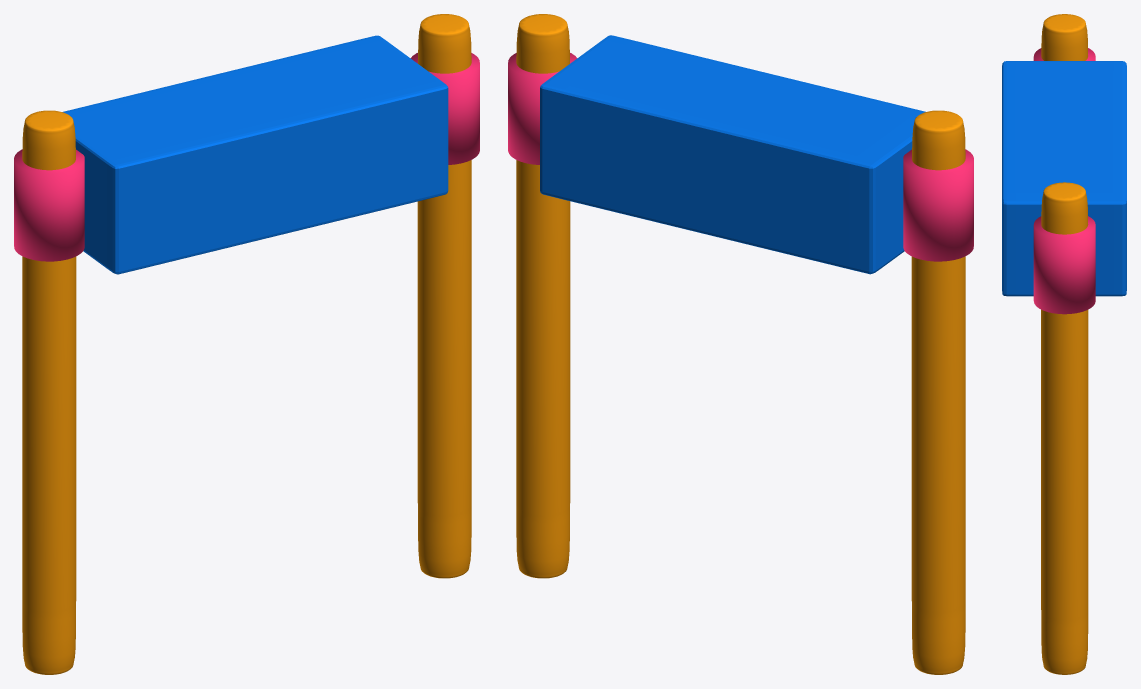
The picture shows the model from 3 angles, left to right: view 1: azimuth 30°, elevation 25°; view 2: azimuth 150°, elevation 25°; view 3: azimuth 270°, elevation 25°; orthographic projection. The views are drawn at different scales.
Parts seen in each view (by area): view 1: Engel.001, Kollar; view 2: Engel.001, Kollar; view 3: Engel.001, Kollar.
Part boxes in pixels (x1,y1,x2,y2): Engel.001: (14, 35, 479, 274); Kollar: (22, 14, 471, 674); Engel.001: (508, 35, 973, 274); Kollar: (516, 14, 965, 674); Engel.001: (1002, 48, 1126, 314); Kollar: (1041, 14, 1088, 674).
Size of the model in its own units: 52.51 by 59.96 by 14.27.
